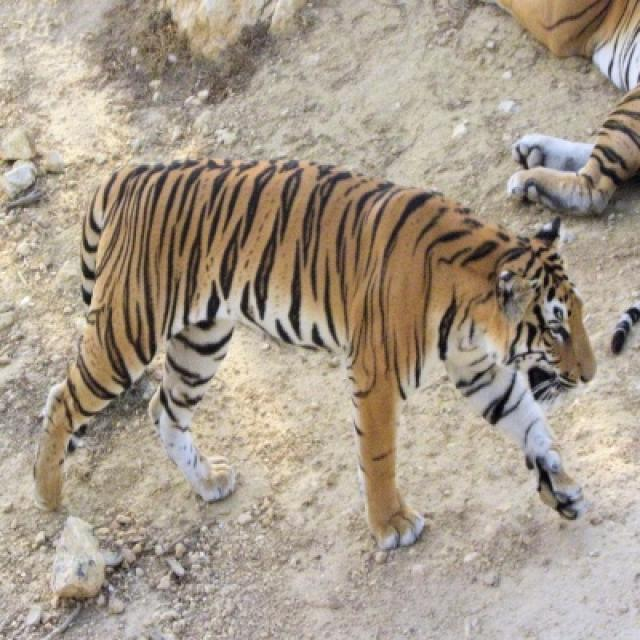Tiger: (31, 158, 597, 551)
